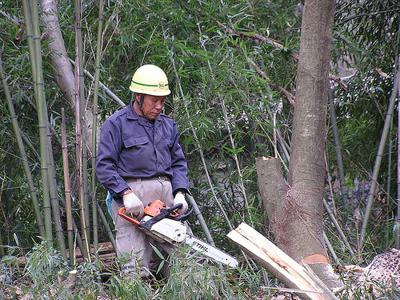person: (94, 62, 190, 288)
